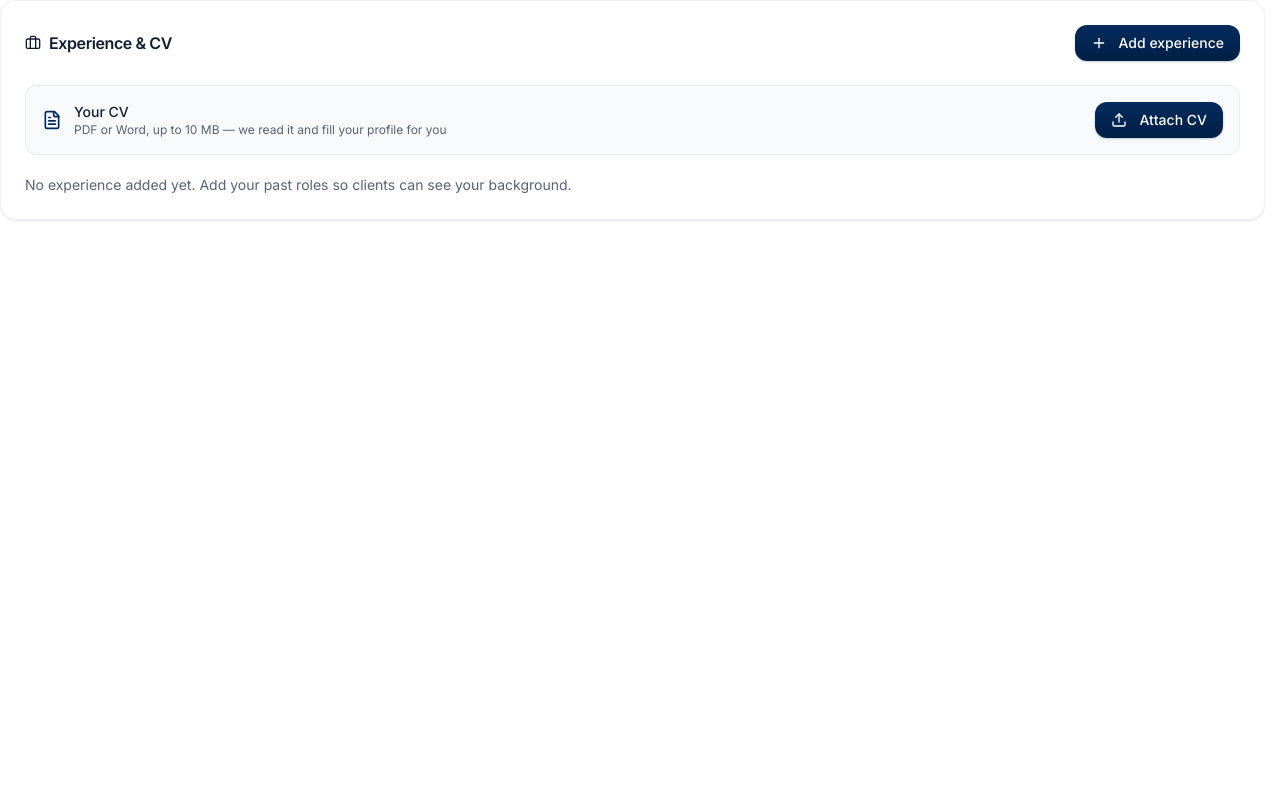
Test: ExperienceCvCard dialog › lets the consultant discard a half-filled new entry with Close
Expected: the text "No experience added yet" is shown, [25,176,572,193]
Click the button "Add experience".
click(1157, 43)  # box [1074,25,1240,61]
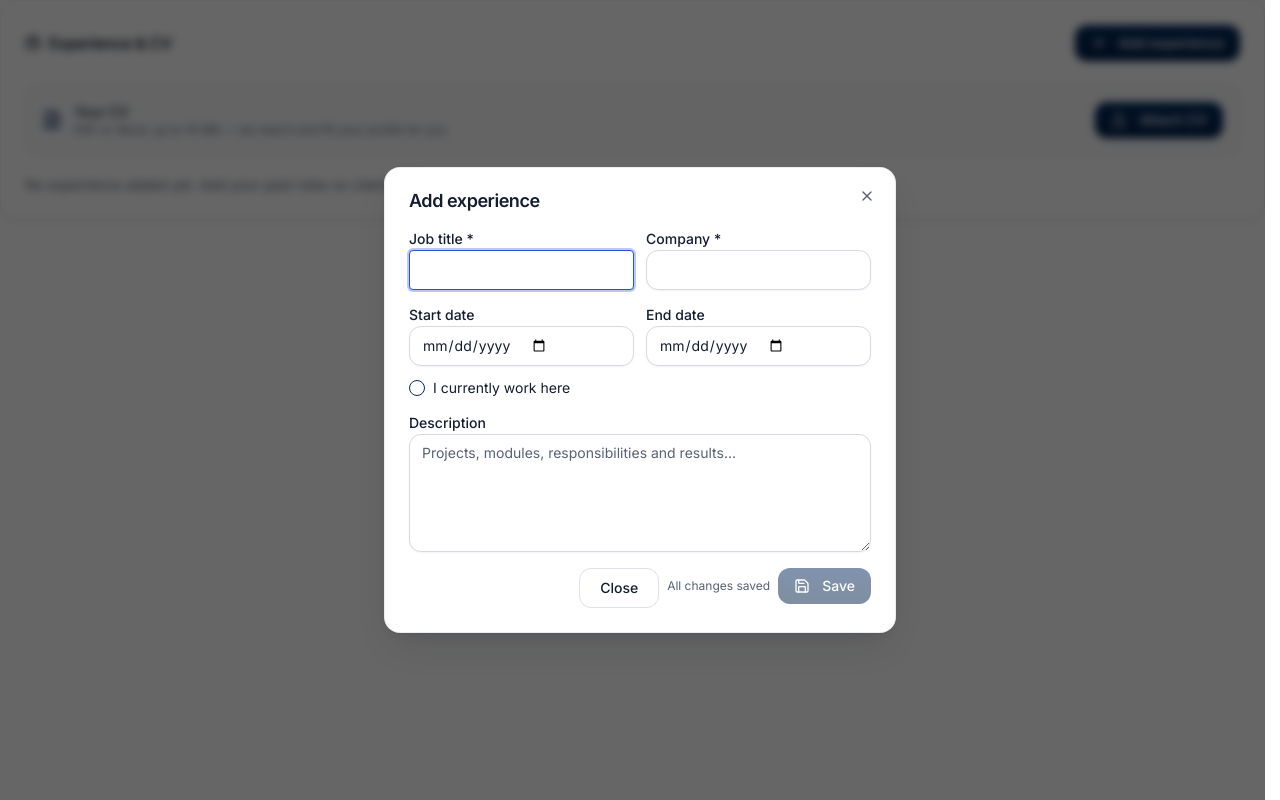
Type "Acme" into the field below "Company *".
click(758, 270); type("Acme")  # box [646,250,871,290]
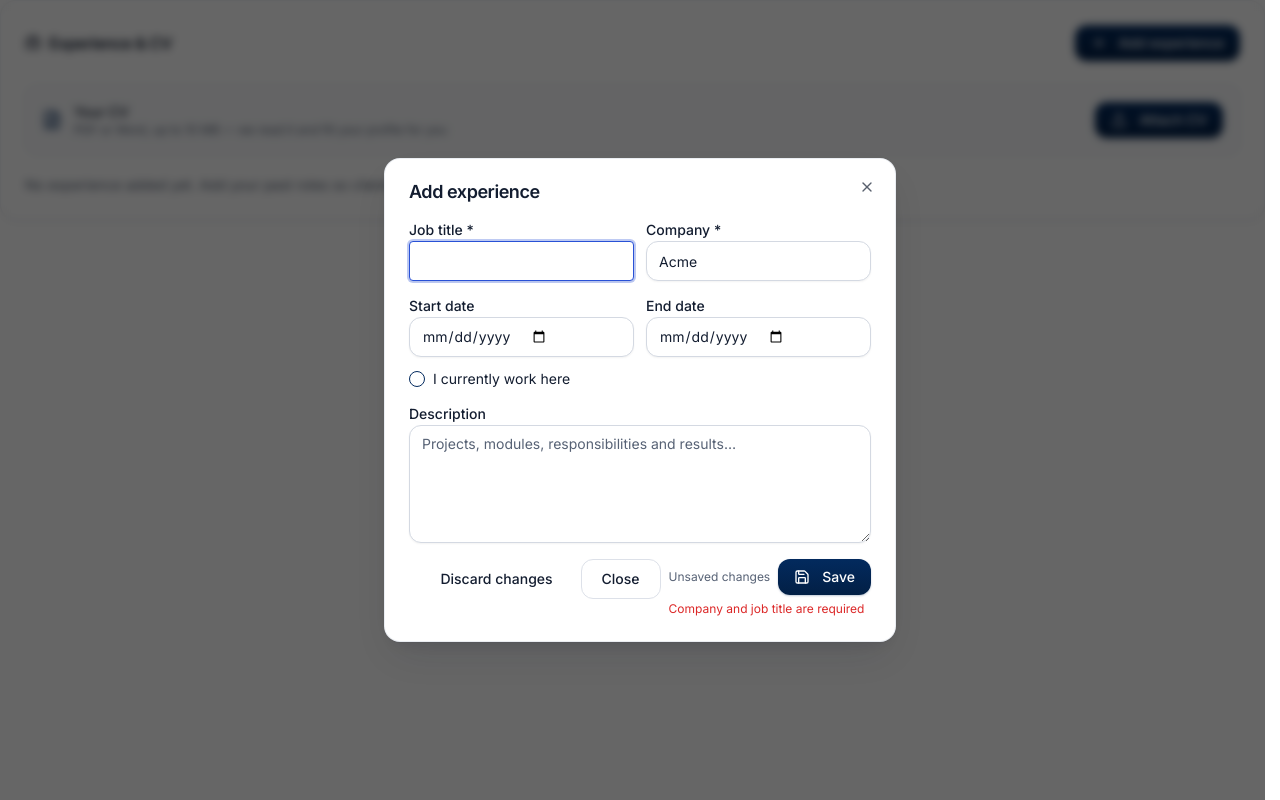
Click the button "Close".
click(621, 579)  # box [581,559,661,599]
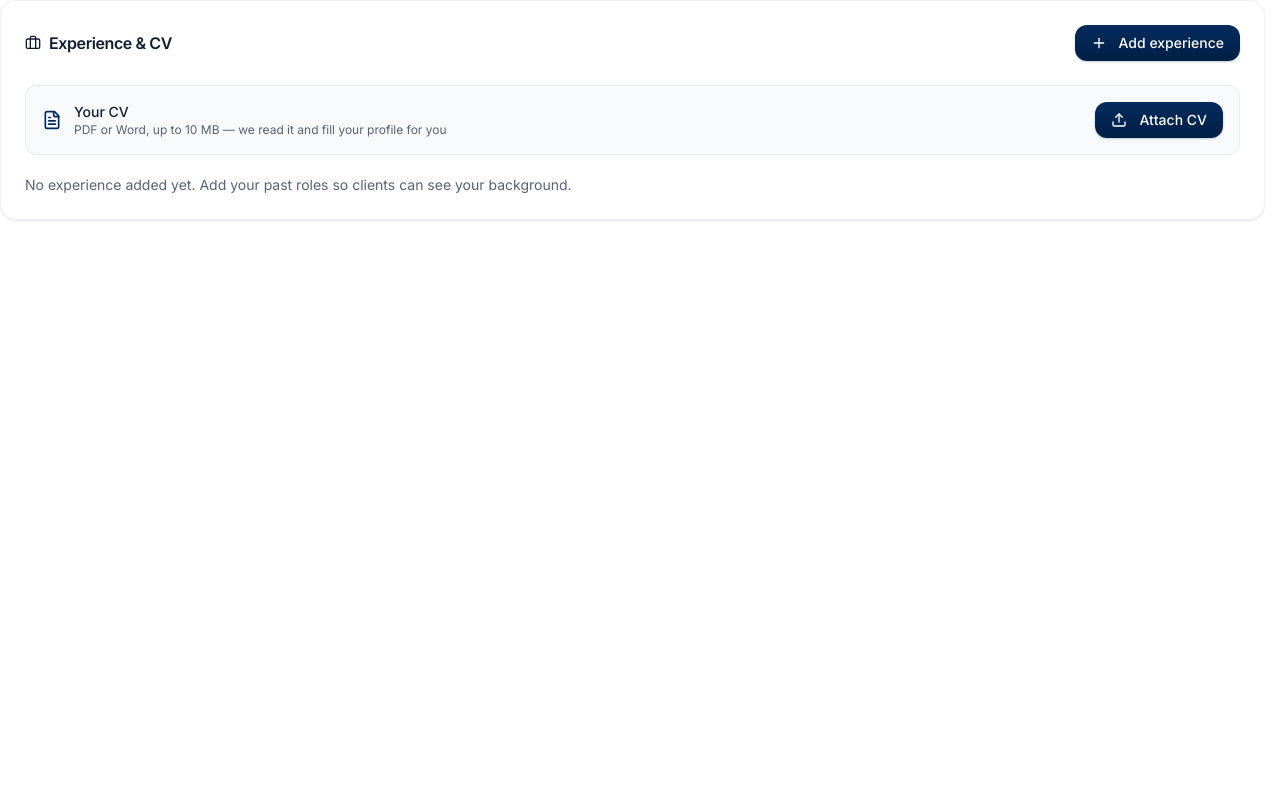
Expected: the dialog is gone
